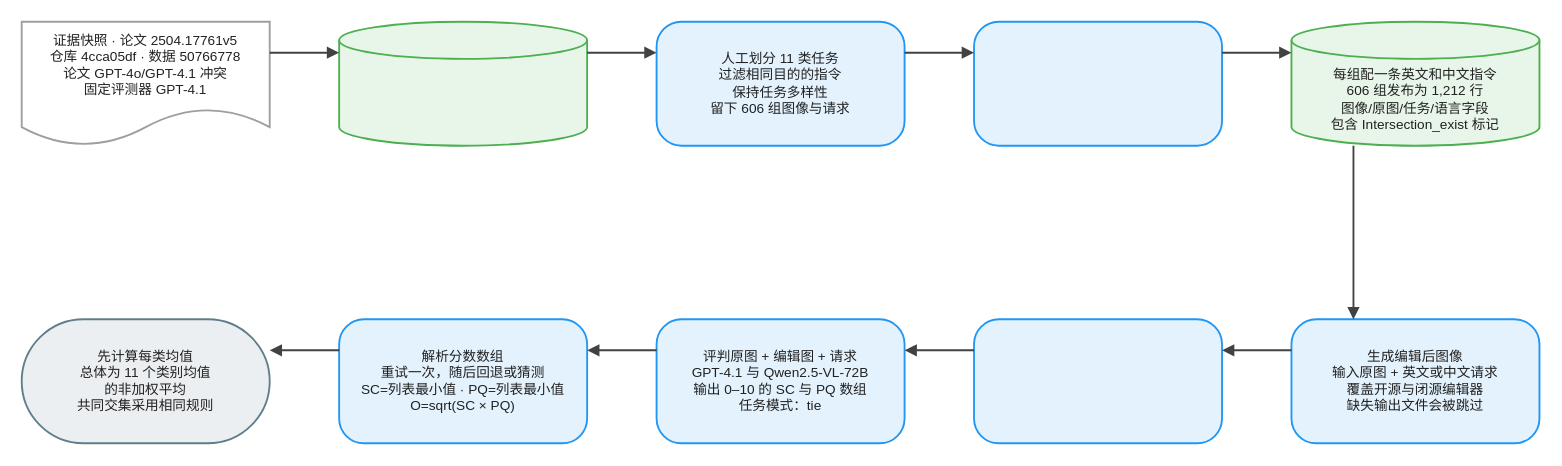
This 1562x466 diagram has some shape labels left out. The shapes that lost their labels are listed below. From the top down, each one's centre as x and y in pixels, then its label:
(463,83): 收集 >1,000 个真实编辑实例 来源为公开互联网 包括 Reddit 类用户请求 保留真实编辑意图
(1097,83): 对用户图像去标识化 在公开引擎中反向搜图 替换为匹配的公开图像 无替代图时改指令但保留意图
(1097,381): 形成两类报告视图 完整集：每种语言最多 606 例 失败或缺失输出不计入 共同交集：英文 434 · 中文 422
